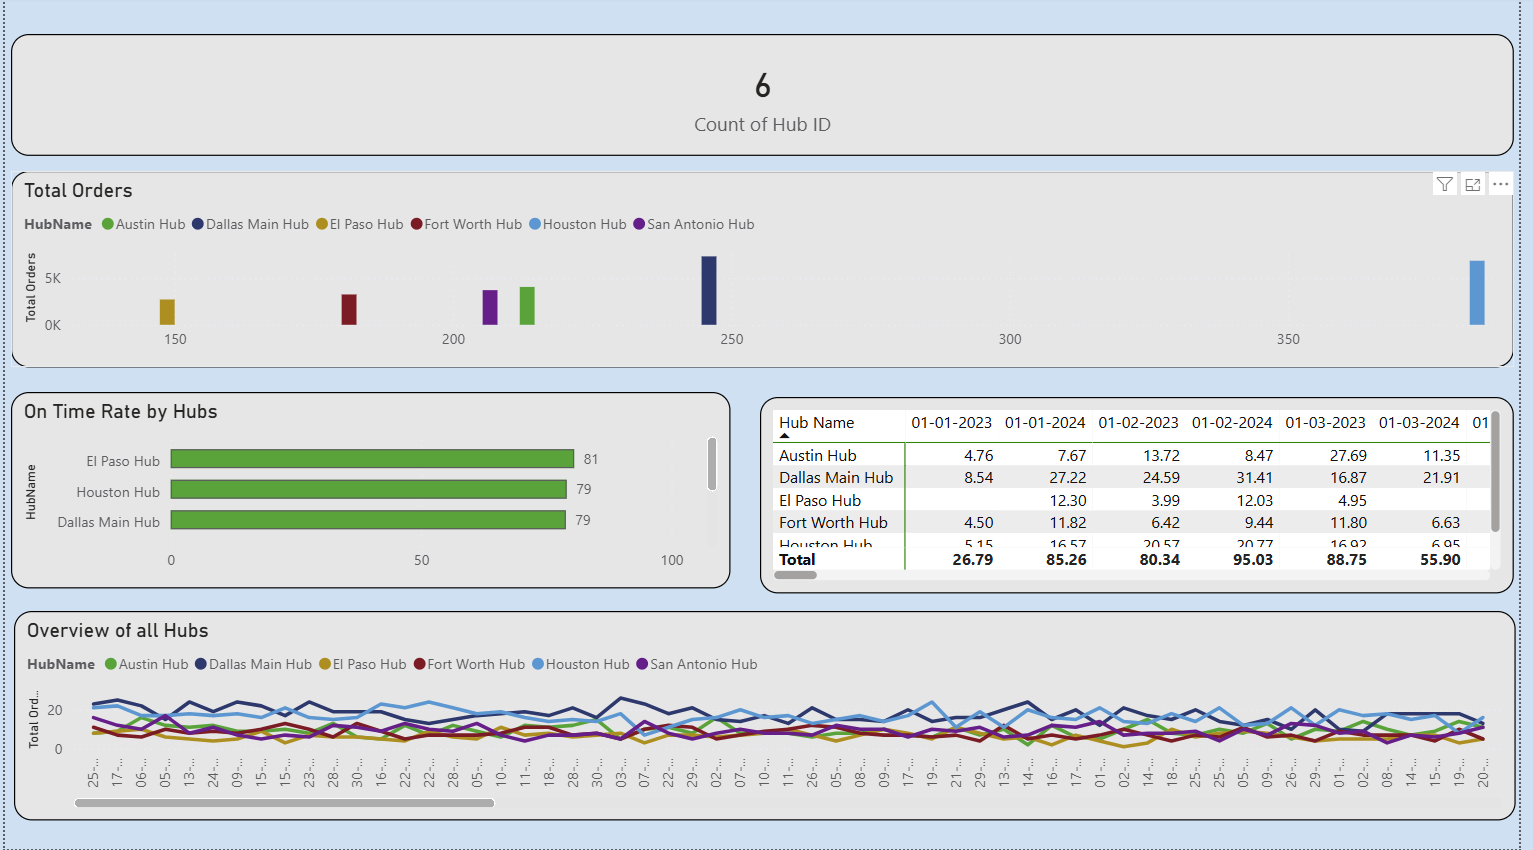

Layout of this report page (visuals, bound fields, positions):
{"tool":"powerbi","page":{"name":"HUBS Report","canvas":[1280,720],"ordinal":1},"visuals":[{"type":"card","fields":{"Values":["CountNonNull(Hubs.Hub ID)"]},"box":[4.8,31.5,1270.5,103],"z":0},{"type":"clusteredColumnChart","title":"Total Orders ","fields":{"Category":["Hubs.Hub Capacity"],"Y":["Orders.Total Orders"],"Series":["Hubs.HubName"]},"box":[4.8,146.9,1270.5,166],"z":1000},{"type":"clusteredBarChart","fields":{"Y":["Orders.On Time Rate"],"Category":["Hubs.HubName","Orders.Hub Processing Time Hours"]},"box":[4.8,333.8,607.6,166],"z":2000},{"type":"lineChart","title":"Overview of all Hubs","fields":{"Category":["Orders.Order Date"],"Y":["Orders.Total Orders"],"Series":["Hubs.HubName"]},"box":[7.6,518.9,1268.6,177.4],"z":3000},{"type":"pivotTable","fields":{"Rows":["Orders.Hub Name"],"Columns":["Orders.MonthName"],"Values":["Sum(Orders.Hub Processing Time Hours)"]},"box":[638.1,337.6,637.1,166],"z":4000}]}

Visuals, with their boxes in screenshot pixels (x1, y1, x2, y2), scaled from the page's 1280x720 canvas onto the 1533x850 screenshot:
card - CountNonNull(Hubs.Hub ID): [6,37,1527,159]
"Total Orders " clusteredColumnChart: [6,173,1527,369]
clusteredBarChart - Orders.On Time Rate x Hubs.HubName: [6,394,733,590]
"Overview of all Hubs" lineChart: [9,613,1528,822]
pivotTable - Orders.Hub Name x Orders.MonthName: [764,399,1527,595]
